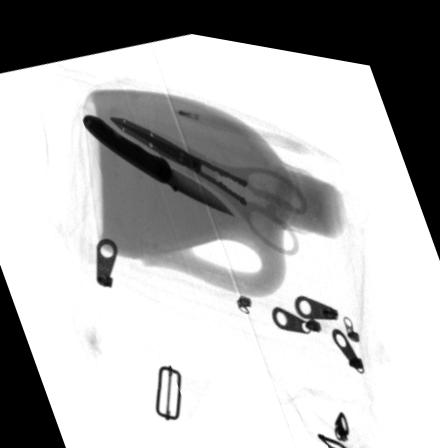Knife: (82, 110, 233, 209)
Scissors: (108, 113, 307, 246)
